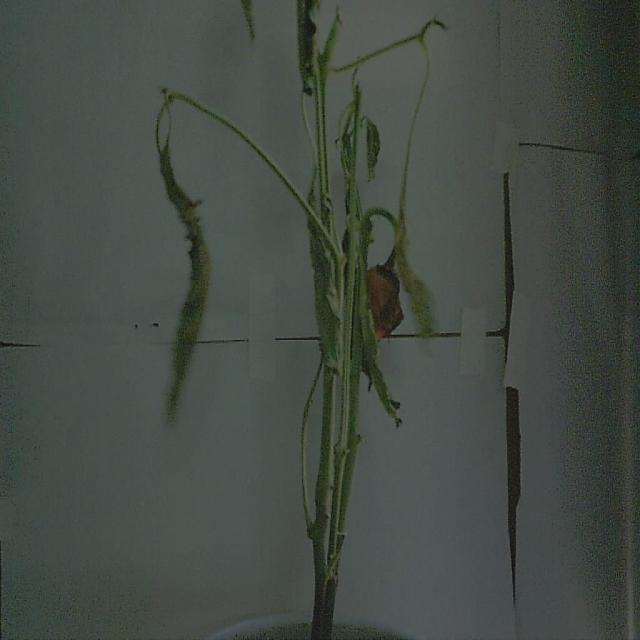Leaf: (351, 220, 415, 432), (161, 215, 211, 432), (300, 194, 346, 376)
